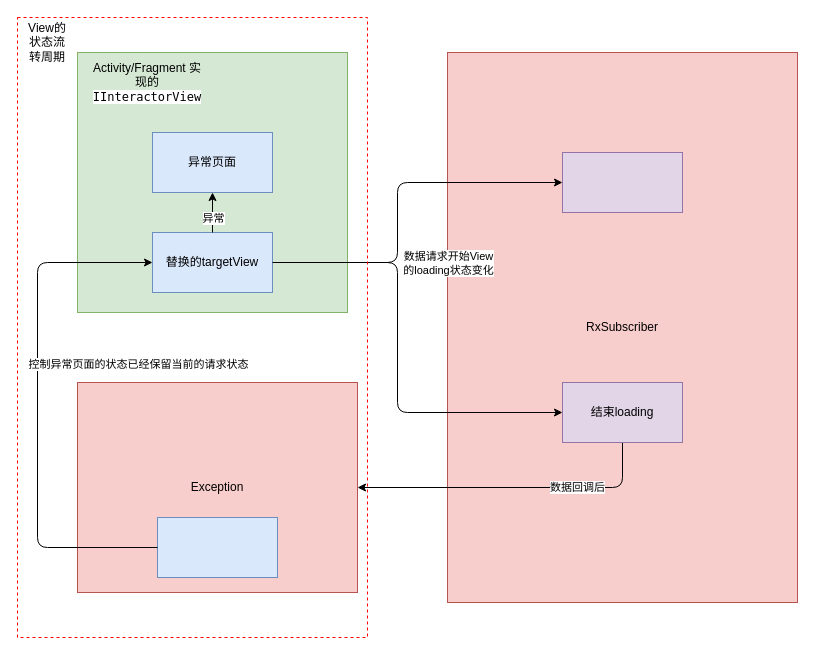
Some shapes in this 815 by 655 pixel diagram are drawn without their labels. Each missing label, with the centre of its shape:
"Handler" goes at point (217, 547).
"开始loading" goes at point (622, 182).
